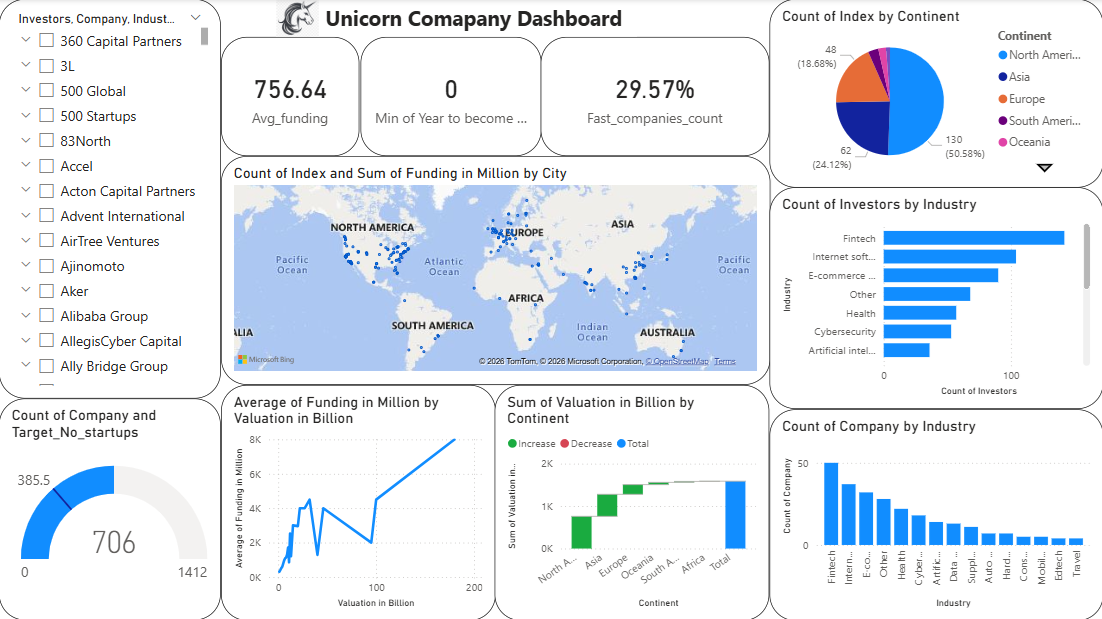

This screenshot's page, from the dashboard's own definition file:
{"tool":"powerbi","page":{"name":"Page 4","canvas":[1280,720],"ordinal":3},"visuals":[{"type":"card","fields":{"Values":["Funding.Avg_funding"]},"box":[256.7,43.3,160,138.3],"z":0},{"type":"card","fields":{"Values":["Min(Unicorn_Companies.Year to become Unicorn)"]},"box":[418.3,43.3,210,138.3],"z":1000},{"type":"card","fields":{"Values":["Unicorn_Companies.Fast_companies_count"]},"box":[628.3,43.3,265,138.3],"z":2000},{"type":"clusteredColumnChart","fields":{"Category":["Unicorn_Companies.Industry"],"Y":["CountNonNull(Unicorn_Companies.Company)"]},"box":[893.3,475,386.7,245],"z":3000},{"type":"map","fields":{"Category":["Unicorn_Companies.City"],"Size":["CountNonNull(Unicorn_Companies.Index)"]},"box":[256.7,181.7,636.7,265],"z":4000},{"type":"lineChart","fields":{"Category":["Unicorn_Companies.Valuation in Billion"],"Y":["Avg(Funding.Funding in Million)"]},"box":[256.7,446.7,318.3,273.3],"z":5000},{"type":"pieChart","fields":{"Category":["Unicorn_Companies.Continent"],"Y":["CountNonNull(Unicorn_Companies.Index)"]},"box":[893.3,0,386.7,218.3],"z":6000},{"type":"clusteredBarChart","fields":{"Category":["Unicorn_Companies.Industry"],"Y":["CountNonNull(Investers.Investors)"]},"box":[893.3,218.3,386.7,256.7],"z":7000},{"type":"waterfallChart","fields":{"Y":["Sum(Unicorn_Companies.Valuation in Billion)"],"Category":["Unicorn_Companies.Continent"]},"box":[575,446.7,318.3,273.3],"z":8000},{"type":"gauge","fields":{"Y":["CountNonNull(Investers.Company)"],"TargetValue":["Unicorn_Companies.Target_No_startups"]},"box":[0,463.3,256.7,256.7],"z":9000},{"type":"slicer","fields":{"Values":["Investers.Investors","Unicorn_Companies.Company","Unicorn_Companies.Industry","Unicorn_Companies.City"]},"box":[0,0,256.7,463.3],"z":10000},{"type":"textbox","box":[361.7,0,378.3,43.3],"z":11000},{"type":"image","box":[276.7,0,140,43.3],"z":12000}]}

Visuals, with their boxes in screenshot pixels (x1, y1, x2, y2), scaled from the page's 1280x720 canvas onto the 1102x619 screenshot:
card - Funding.Avg_funding: bbox(221, 37, 359, 156)
card - Min(Unicorn_Companies.Year to become Unicorn): bbox(360, 37, 541, 156)
card - Unicorn_Companies.Fast_companies_count: bbox(541, 37, 769, 156)
clusteredColumnChart - Unicorn_Companies.Industry x CountNonNull(Unicorn_Companies.Company): bbox(769, 408, 1101, 618)
map - Unicorn_Companies.City x CountNonNull(Unicorn_Companies.Index): bbox(221, 156, 769, 384)
lineChart - Unicorn_Companies.Valuation in Billion x Avg(Funding.Funding in Million): bbox(221, 384, 495, 618)
pieChart - Unicorn_Companies.Continent x CountNonNull(Unicorn_Companies.Index): bbox(769, 0, 1101, 188)
clusteredBarChart - Unicorn_Companies.Industry x CountNonNull(Investers.Investors): bbox(769, 188, 1101, 408)
waterfallChart - Sum(Unicorn_Companies.Valuation in Billion) x Unicorn_Companies.Continent: bbox(495, 384, 769, 618)
gauge - CountNonNull(Investers.Company) x Unicorn_Companies.Target_No_startups: bbox(0, 398, 221, 618)
slicer - Investers.Investors x Unicorn_Companies.Company: bbox(0, 0, 221, 398)
textbox: bbox(311, 0, 637, 37)
image: bbox(238, 0, 359, 37)
